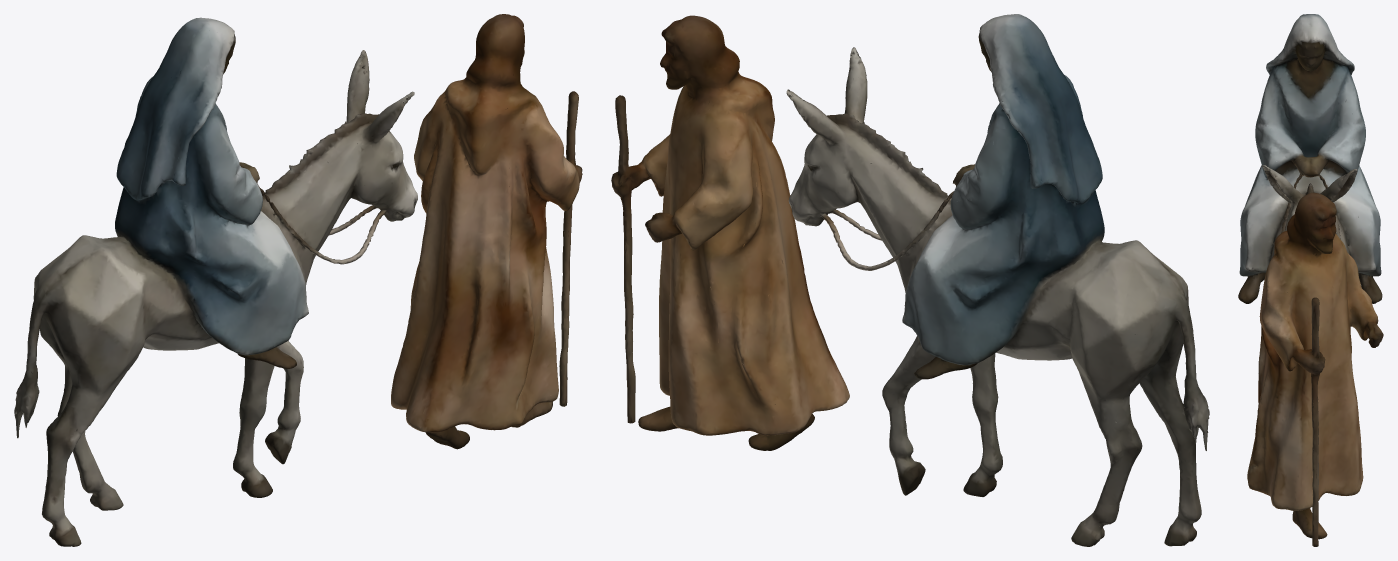
Rendered from scene-two.glb.
3 renders of one model, left to right at view 1: azimuth 30°, elevation 25°; view 2: azimuth 150°, elevation 25°; view 3: azimuth 270°, elevation 25°, orthographic. The views are drawn at different scales.
Parts seen in each view (by area): view 1: tripo_node_89c9c548-378e-4f5d-b218-422d93313274; view 2: tripo_node_89c9c548-378e-4f5d-b218-422d93313274; view 3: tripo_node_89c9c548-378e-4f5d-b218-422d93313274.
Boxes of the visible parts, x1,y1,x2,y2 form: tripo_node_89c9c548-378e-4f5d-b218-422d93313274: (14, 14, 582, 546); tripo_node_89c9c548-378e-4f5d-b218-422d93313274: (611, 14, 1209, 546); tripo_node_89c9c548-378e-4f5d-b218-422d93313274: (1238, 14, 1383, 546).
Size of the model in its own units: 0.9979 by 0.8046 by 0.2729.
